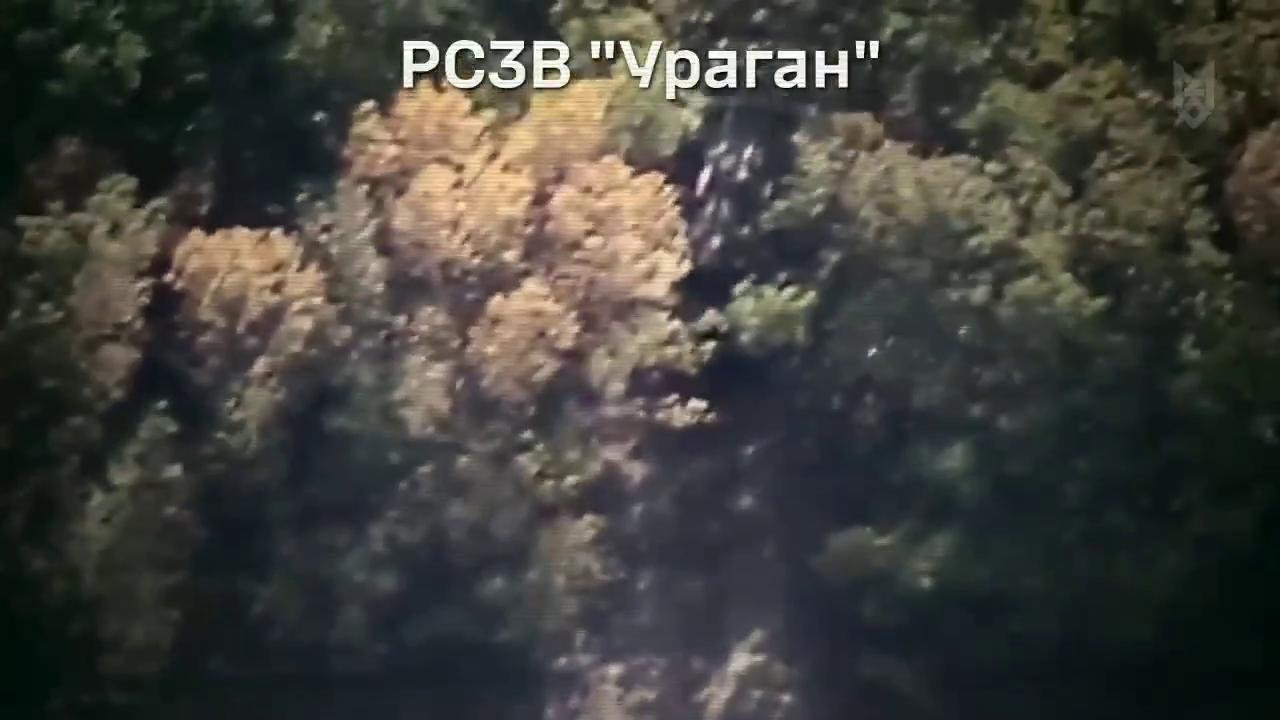tank: (680, 103, 789, 292)
